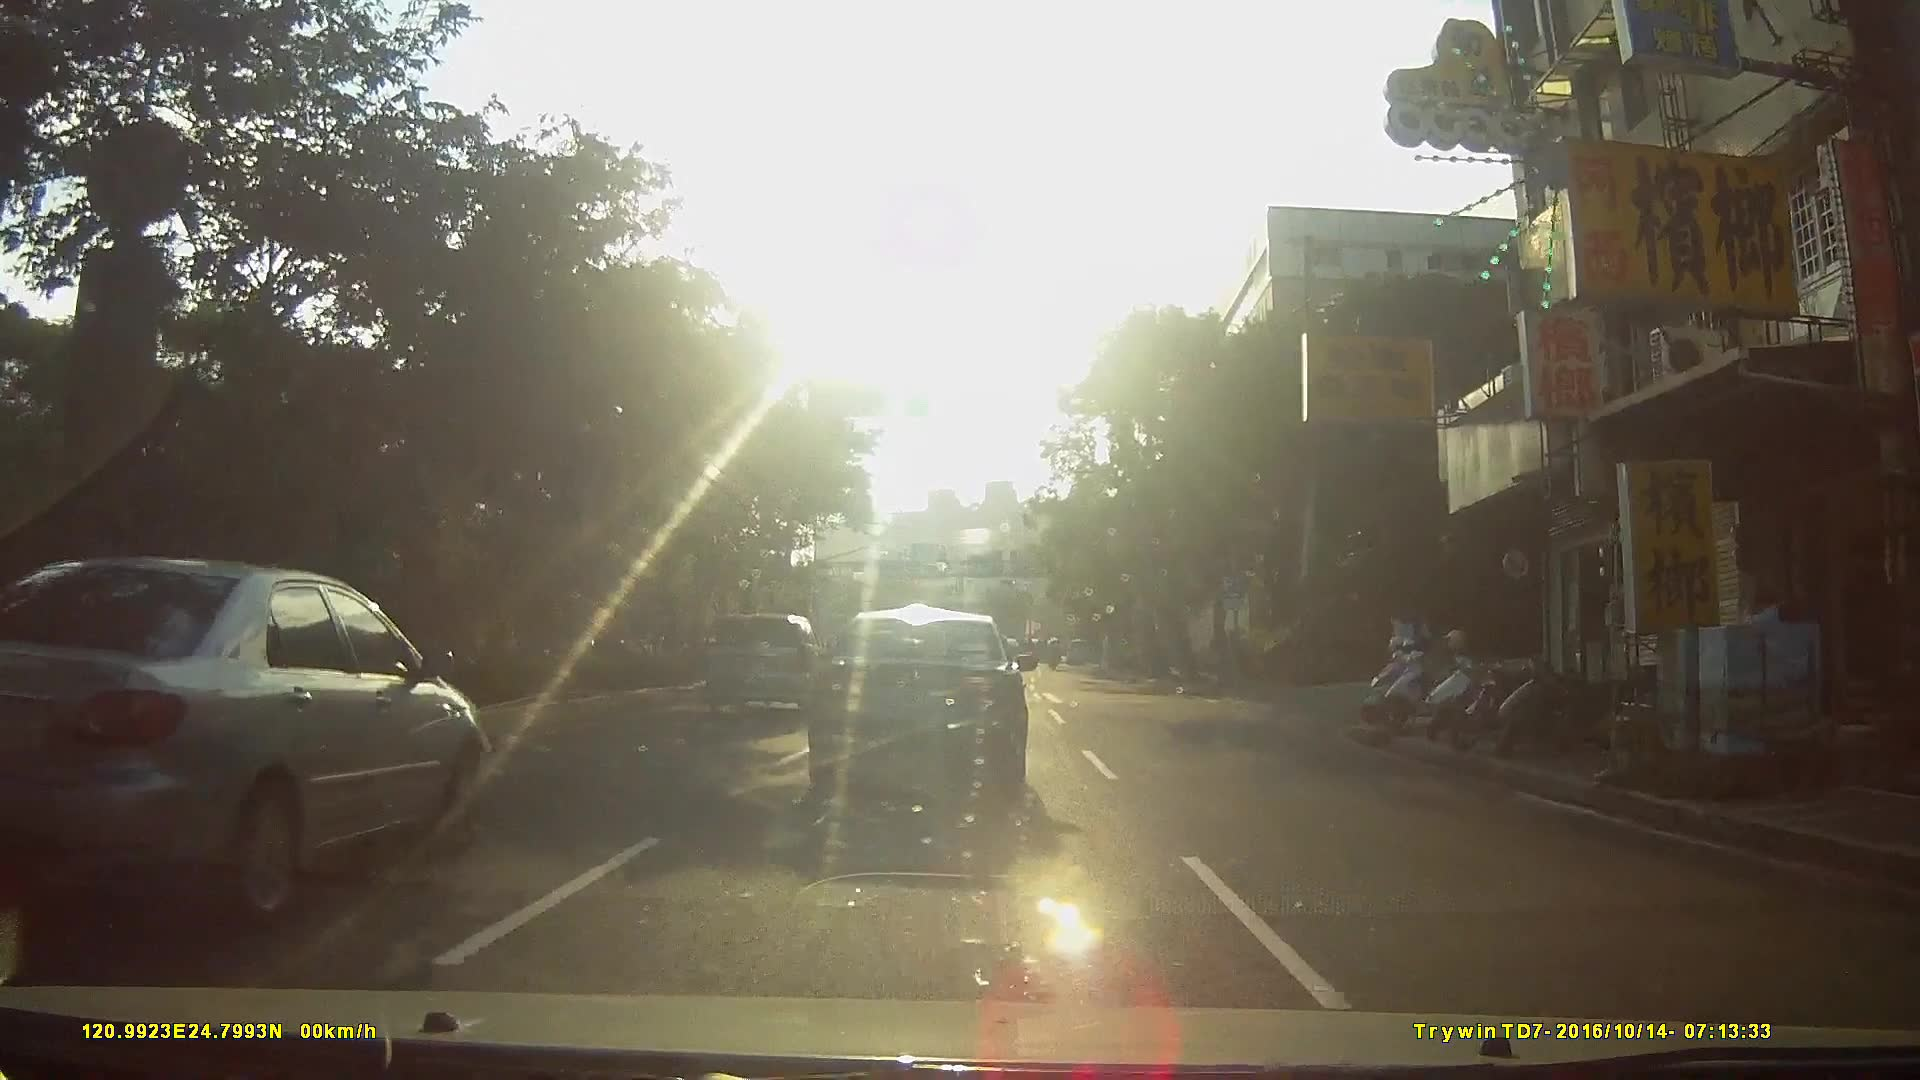pedestrian: (1744, 587, 1809, 744)
vehicle: (0, 559, 513, 919), (815, 606, 1050, 811), (710, 613, 831, 714), (1066, 639, 1101, 671)
